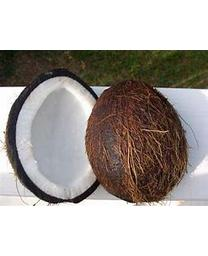coconut: (4, 67, 108, 201), (86, 78, 189, 201)
